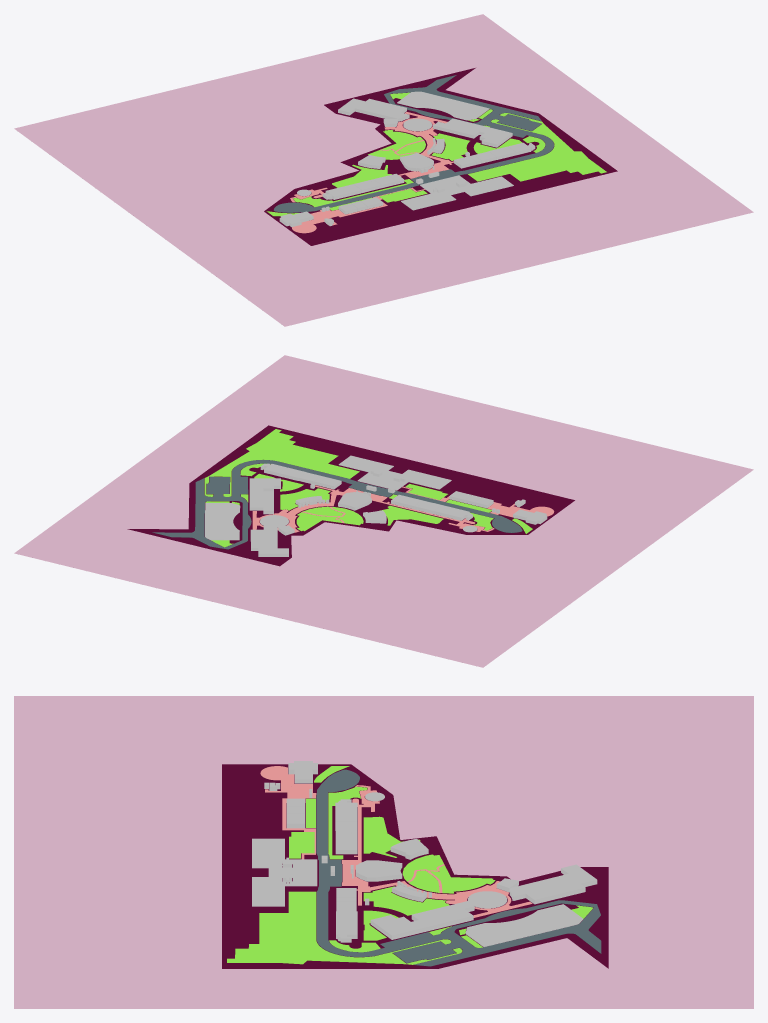
The model's file is njc-l1-v4-28-4.glb.
The picture shows the model from 3 angles, top to bottom: view 1: azimuth 30°, elevation 25°; view 2: azimuth 150°, elevation 25°; view 3: azimuth 270°, elevation 25°; orthographic projection. The views are drawn at different scales.
Parts seen in each view (by area): view 1: Grey, Base, Grass, None, Drive, Foot, Canteen; view 2: Grey, Base, Grass, None, Drive, Foot, Canteen; view 3: Grey, Base, Grass, None, Drive, Foot, Canteen, Atrium, DS3.
Part boxes in pixels (x1,y1,x2,y2): Grey: [14, 14, 753, 326]; Base: [264, 68, 617, 245]; Grass: [266, 92, 606, 216]; None: [338, 91, 535, 214]; Drive: [273, 75, 554, 212]; Foot: [290, 112, 453, 233]; Canteen: [401, 175, 513, 210]; Grey: [14, 355, 753, 667]; Base: [127, 425, 574, 566]; Grass: [204, 429, 532, 547]; None: [205, 463, 493, 556]; Drive: [152, 460, 522, 549]; Foot: [252, 485, 554, 532]; Canteen: [338, 455, 451, 490]; Grey: [14, 696, 753, 1008]; Base: [222, 764, 608, 968]; Grass: [227, 766, 592, 964]; None: [286, 798, 597, 946]; Drive: [316, 769, 601, 966]; Foot: [260, 766, 532, 917]; Canteen: [252, 838, 317, 906]; Atrium: [467, 891, 507, 908]; DS3: [288, 761, 317, 783].
Bounding box in the file's own units: 30 × 0.203 × 30.
